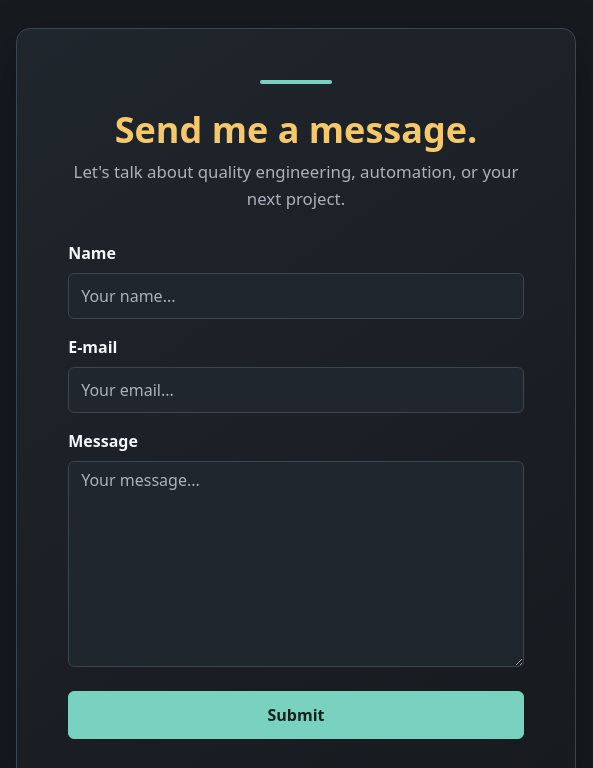
Test: Contact page › when sending goes wrong › shows an error when the network is unreachable
The width and height of the screenshot is (593, 768).
Type "  Jane Doe " into the field labelled "Name". click: [296, 296]
box: [68,273,524,319]
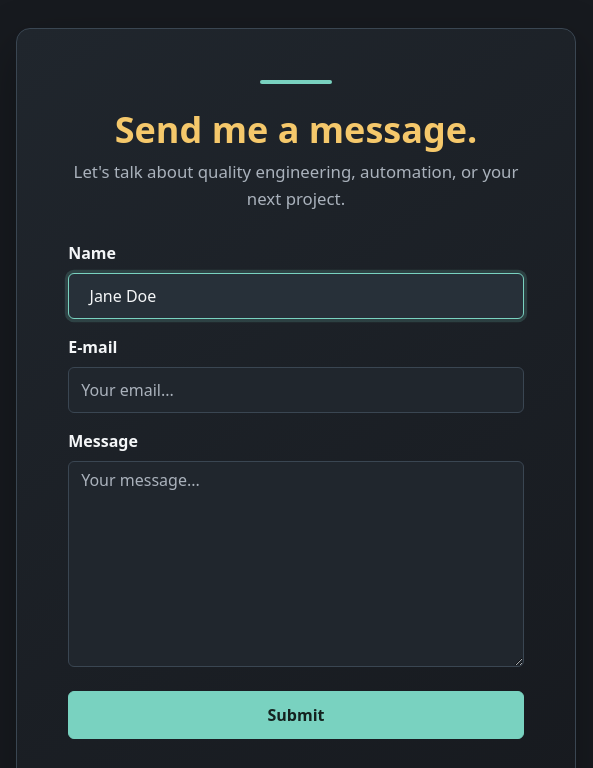
Type "jane@example.com" into the field labelled "E-mail". click: [296, 390]
box: [68,367,524,413]
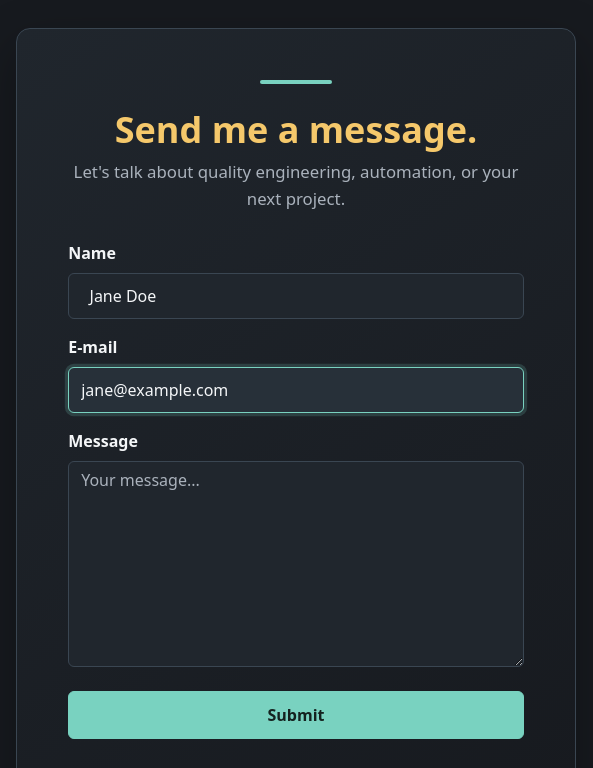
Type "Hello from a test" into the text box labelled "Message". click: [296, 564]
box: [68,461,524,667]
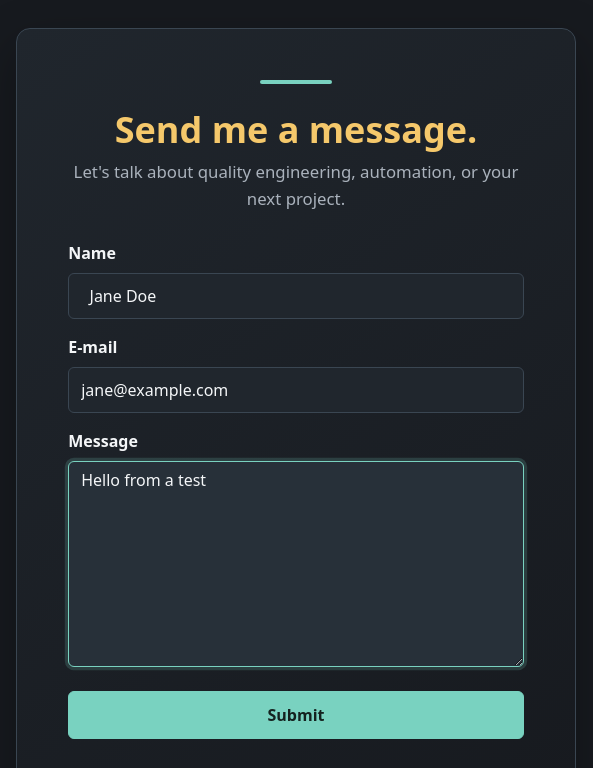
Click the button "Submit". click: [296, 715]
box: [68,691,524,739]
(page scrolled)
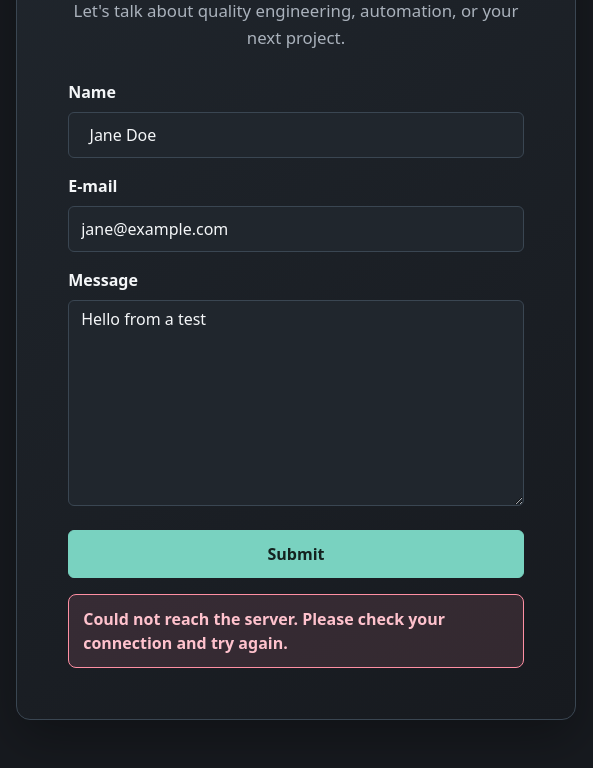
Check: the message shows "Could not reach the server", box [83,608,445,654]
